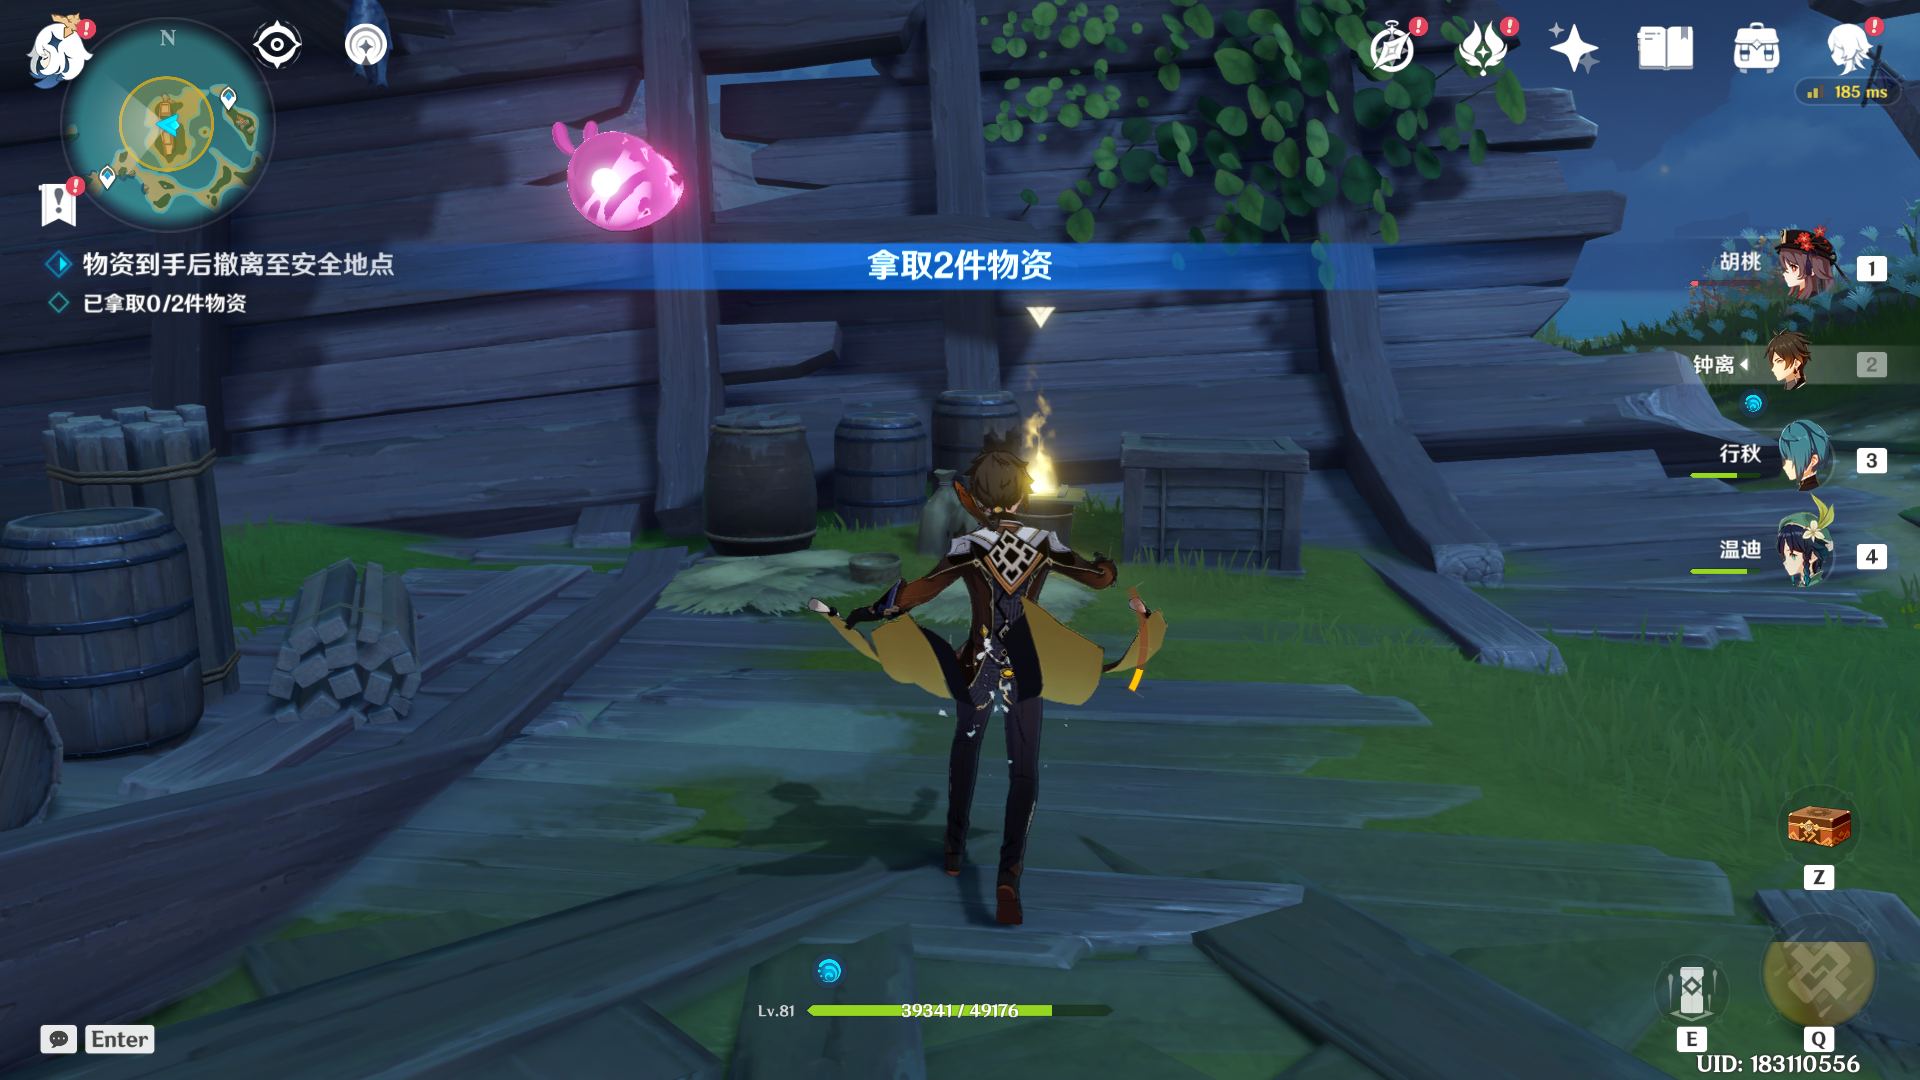character: (808, 425, 1205, 938)
